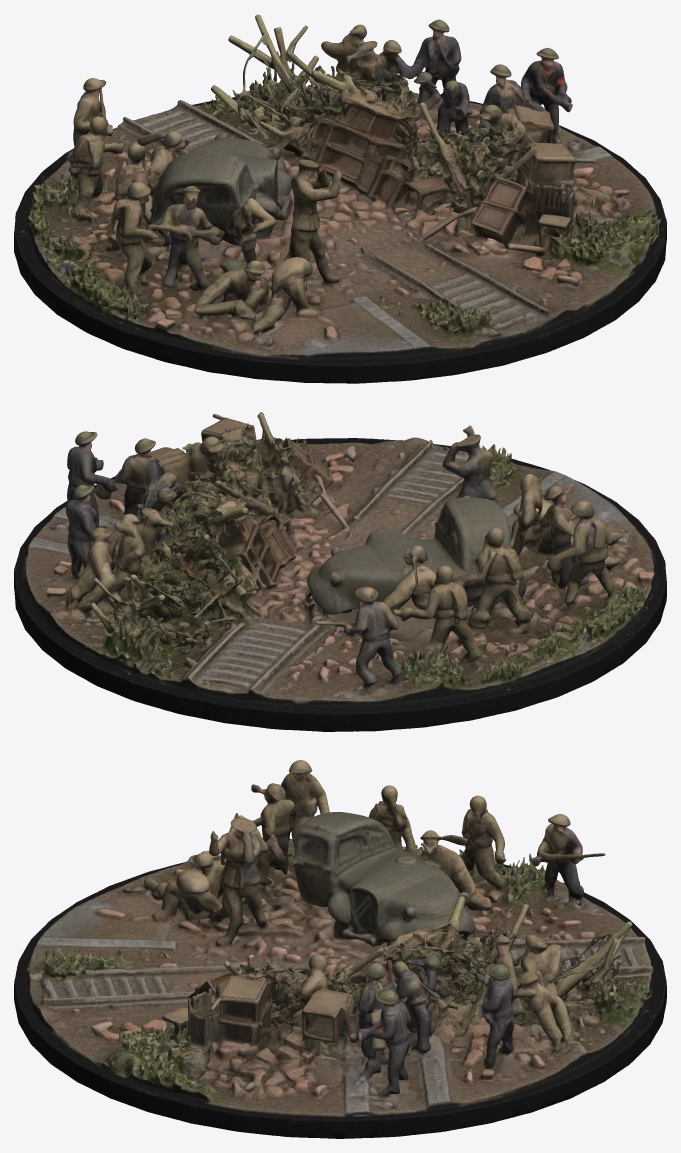
The model's file is Giam chân quân Phpas.glb.
The picture shows the model from 3 angles, top to bottom: view 1: azimuth 30°, elevation 25°; view 2: azimuth 150°, elevation 25°; view 3: azimuth 270°, elevation 25°; orthographic projection.
Bounding box in the file's own units: 1.9 × 0.4514 × 1.9.
1 material, 1 textured.
